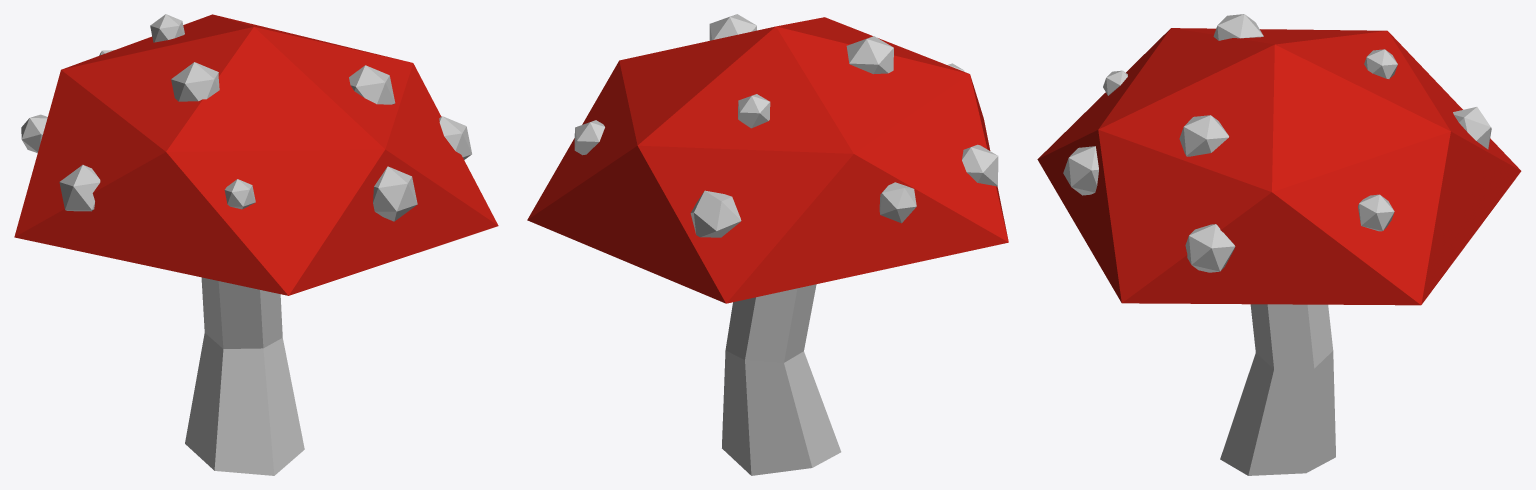
The model's file is gfungus_cap.glb.
The picture shows the model from 3 angles, left to right: view 1: azimuth 30°, elevation 25°; view 2: azimuth 150°, elevation 25°; view 3: azimuth 270°, elevation 25°; orthographic projection. The views are drawn at different scales.
Parts seen in each view (by area): view 1: model; view 2: model; view 3: model.
Part boxes in pixels (left/top/right/bottom): model: left=14, top=14, right=498, bottom=475; model: left=527, top=14, right=1008, bottom=475; model: left=1037, top=14, right=1521, bottom=475.
Size of the model in its own units: 0.5476 by 0.5362 by 0.5621.
